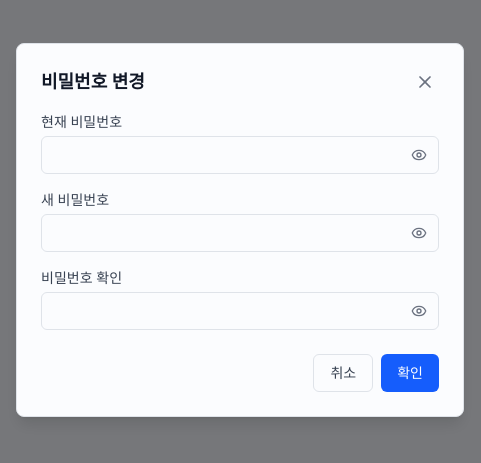
Test: ChangePasswordDialog 기존 검증 (회귀 방지) › 입력이 맞으면 현재/새 비밀번호를 담아 변경을 요청한다
Step 1. Type "old-password" into the password field labelled "현재 비밀번호" → (240,155), box [41, 136, 439, 174]
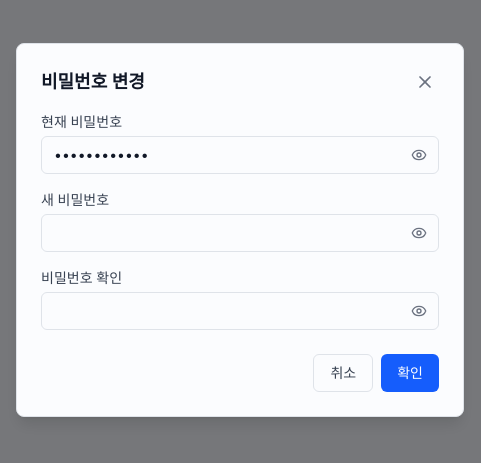
Step 2. Type "new-password" into the password field labelled "새 비밀번호" → (240,233), box [41, 214, 439, 252]
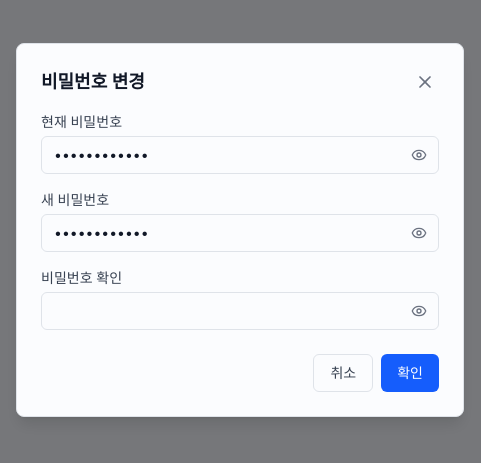
Step 3. Type "new-password" into the password field labelled "비밀번호 확인" → (240,311), box [41, 292, 439, 330]
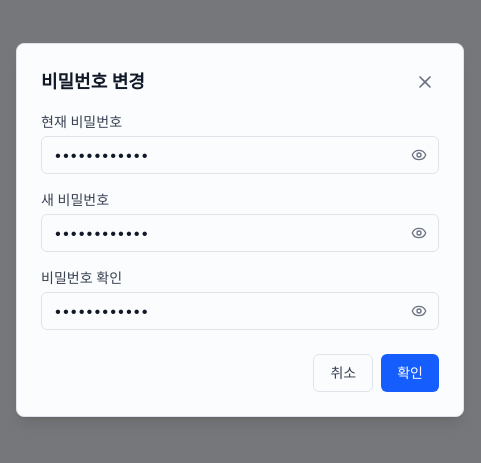
Step 4. Click the button "확인" → (410,373), box [381, 354, 439, 392]
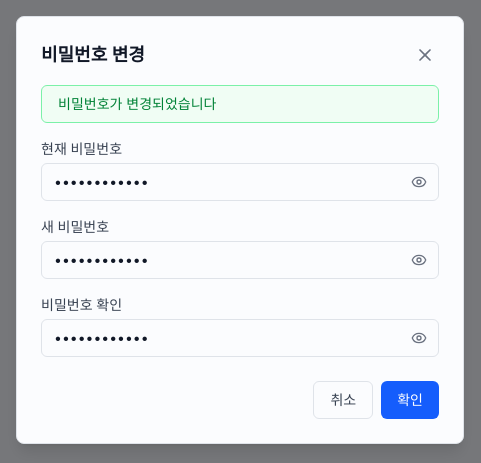
expect the message reads "비밀번호가 변경되었습니다": met, box [58, 95, 216, 112]
